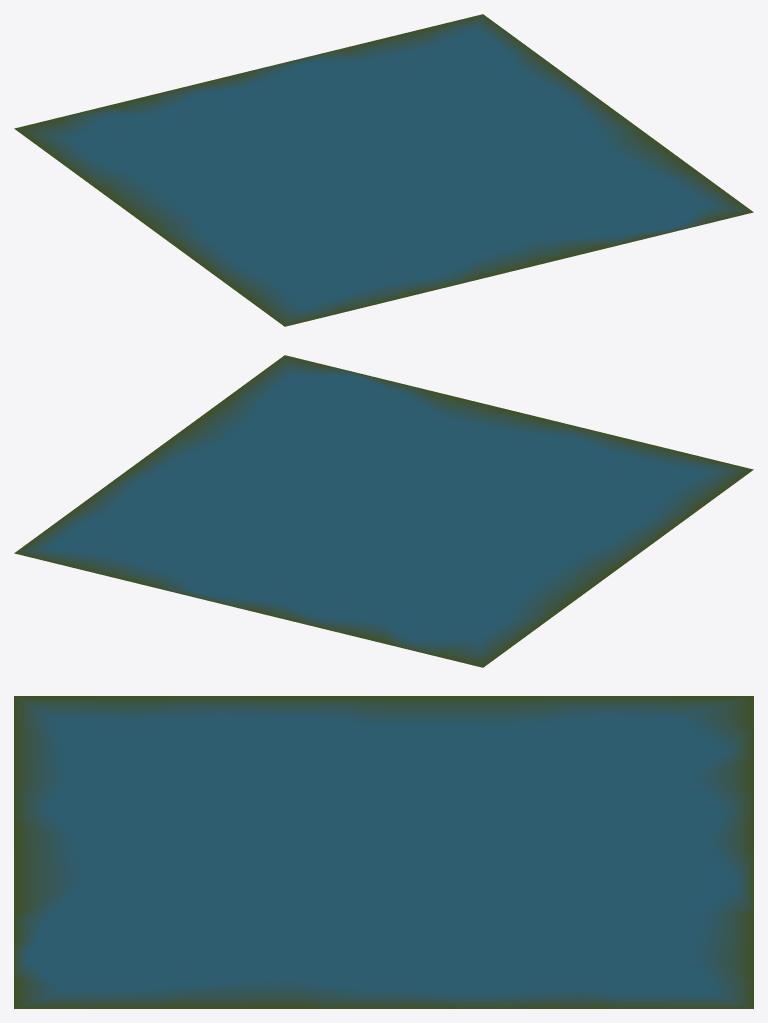
Rendered from Ground_Tile_Water.glb.
3 renders of one model, top to bottom at view 1: azimuth 30°, elevation 25°; view 2: azimuth 150°, elevation 25°; view 3: azimuth 270°, elevation 25°, orthographic. The views are drawn at different scales.
Visible parts, largest first — view 1: Tile_Ground_Water; view 2: Tile_Ground_Water; view 3: Tile_Ground_Water.
Boxes of the visible parts, box(x1,y1,x2,y2) form: Tile_Ground_Water: box(14, 14, 753, 326); Tile_Ground_Water: box(14, 355, 753, 667); Tile_Ground_Water: box(14, 696, 753, 1008).
Size of the model in its own units: 1 by 0 by 1.
